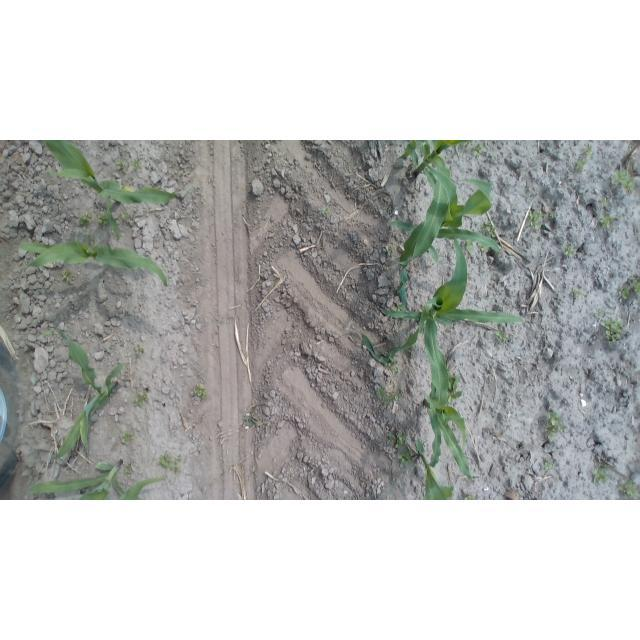Maize: (342, 225, 526, 365), (389, 163, 505, 321), (39, 140, 199, 241), (43, 324, 126, 465), (424, 317, 481, 479), (7, 239, 170, 289), (19, 459, 163, 500), (396, 140, 469, 216), (416, 389, 454, 500), (122, 477, 168, 500)
Weeds: (544, 410, 569, 442), (600, 317, 625, 344), (609, 169, 635, 194), (375, 387, 405, 406), (446, 373, 463, 406), (616, 477, 639, 499), (590, 461, 611, 484), (576, 144, 593, 172), (462, 142, 487, 161), (241, 406, 258, 431), (526, 209, 544, 231), (189, 383, 209, 402), (479, 220, 497, 241), (387, 432, 407, 449), (134, 389, 151, 407), (618, 283, 634, 302), (77, 212, 91, 233), (119, 428, 135, 445), (60, 268, 76, 284), (397, 451, 414, 466), (597, 211, 611, 229), (386, 356, 400, 372), (542, 459, 555, 476), (98, 212, 111, 229), (562, 243, 576, 258), (495, 328, 510, 342), (158, 453, 171, 469), (630, 275, 639, 298), (599, 193, 613, 207), (169, 457, 180, 471), (120, 210, 132, 222), (85, 234, 97, 245), (321, 204, 331, 217), (130, 159, 141, 170), (465, 240, 474, 253), (116, 157, 124, 171), (596, 307, 606, 317), (136, 345, 145, 355), (463, 494, 477, 500), (549, 210, 557, 220), (573, 289, 583, 297), (388, 244, 395, 255), (480, 246, 489, 254), (394, 304, 402, 313), (614, 213, 622, 221), (124, 465, 132, 473), (527, 190, 530, 194)
